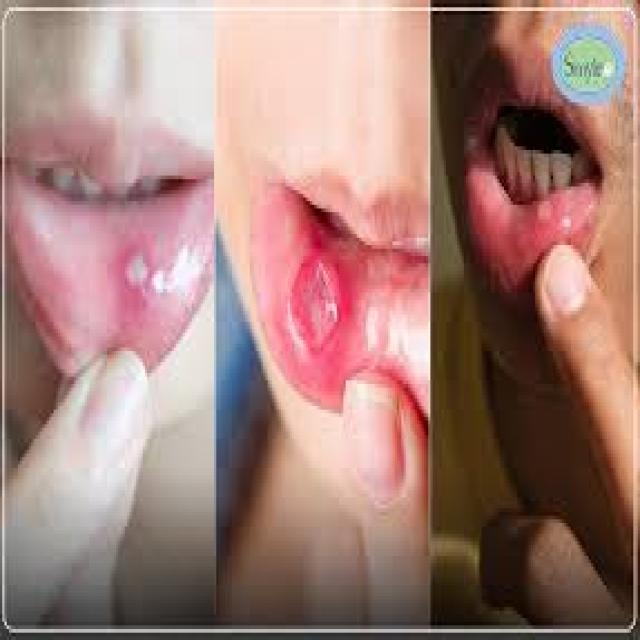processing_area: (4, 163, 215, 365), (255, 180, 431, 421), (472, 170, 592, 256)
ulcer-detection: (279, 237, 362, 370), (121, 238, 158, 309), (526, 191, 563, 232)
